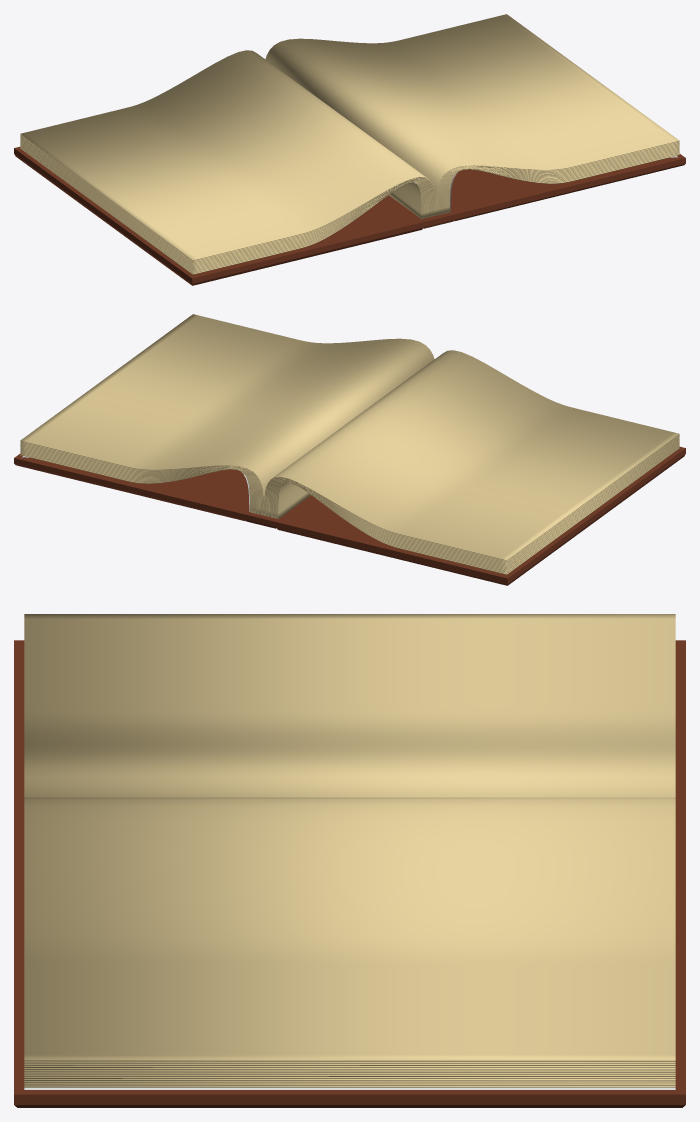
The model's file is closed_animation.fbx.
3 views of the same model, one above another, from view 1: azimuth 30°, elevation 25°; view 2: azimuth 150°, elevation 25°; view 3: azimuth 270°, elevation 25° (orthographic). The views are drawn at different scales.
Parts seen in each view (by area): view 1: Page.014, Page.013, Cover L, Cover R, Page.026, Page.016, Page.015, Page.022, Page.017, Page.019, Page.024, Page.018 (+15 smaller); view 2: Page.014, Page.013, Cover L, Cover R, Page.026, Page.015, Page.017, Page.021, Page.023, Page.019, Page.016, Page.024 (+14 smaller); view 3: Page.013, Page.014, Cover R, Cover L, Page, Page.001, Page.002, Page.003, Page.004, Page.006, Page.007, Page.008 (+5 smaller).
Boxes of the visible parts, x1,y1,x2,y2 form: Page.014: [20, 50, 435, 260]; Page.013: [265, 14, 679, 215]; Cover L: [14, 146, 423, 285]; Cover R: [450, 154, 685, 220]; Page.026: [20, 147, 422, 274]; Page.016: [20, 136, 433, 262]; Page.015: [20, 135, 434, 261]; Page.022: [20, 143, 426, 269]; Page.017: [20, 137, 432, 264]; Page.019: [20, 139, 429, 266]; Page.024: [20, 145, 424, 272]; Page.018: [20, 138, 431, 265]; Page.014: [264, 350, 679, 560]; Page.013: [20, 314, 434, 515]; Cover L: [276, 446, 685, 585]; Cover R: [14, 454, 249, 520]; Page.026: [277, 447, 679, 574]; Page.015: [265, 435, 679, 561]; Page.017: [267, 437, 679, 564]; Page.021: [272, 442, 679, 568]; Page.023: [274, 444, 679, 571]; Page.019: [270, 439, 679, 566]; Page.016: [266, 436, 679, 562]; Page.024: [275, 445, 679, 572]; Page.013: [24, 797, 675, 1061]; Page.014: [24, 614, 675, 797]; Cover R: [14, 881, 685, 1107]; Cover L: [14, 640, 685, 853]; Page: [24, 1087, 675, 1089]; Page.001: [24, 1085, 675, 1087]; Page.002: [24, 1083, 675, 1085]; Page.003: [24, 1081, 675, 1083]; Page.004: [24, 1079, 675, 1081]; Page.006: [24, 1074, 675, 1076]; Page.007: [24, 1072, 675, 1074]; Page.008: [24, 1070, 675, 1072].
Bounding box in the file's own units: 320 × 32.46 × 200.
